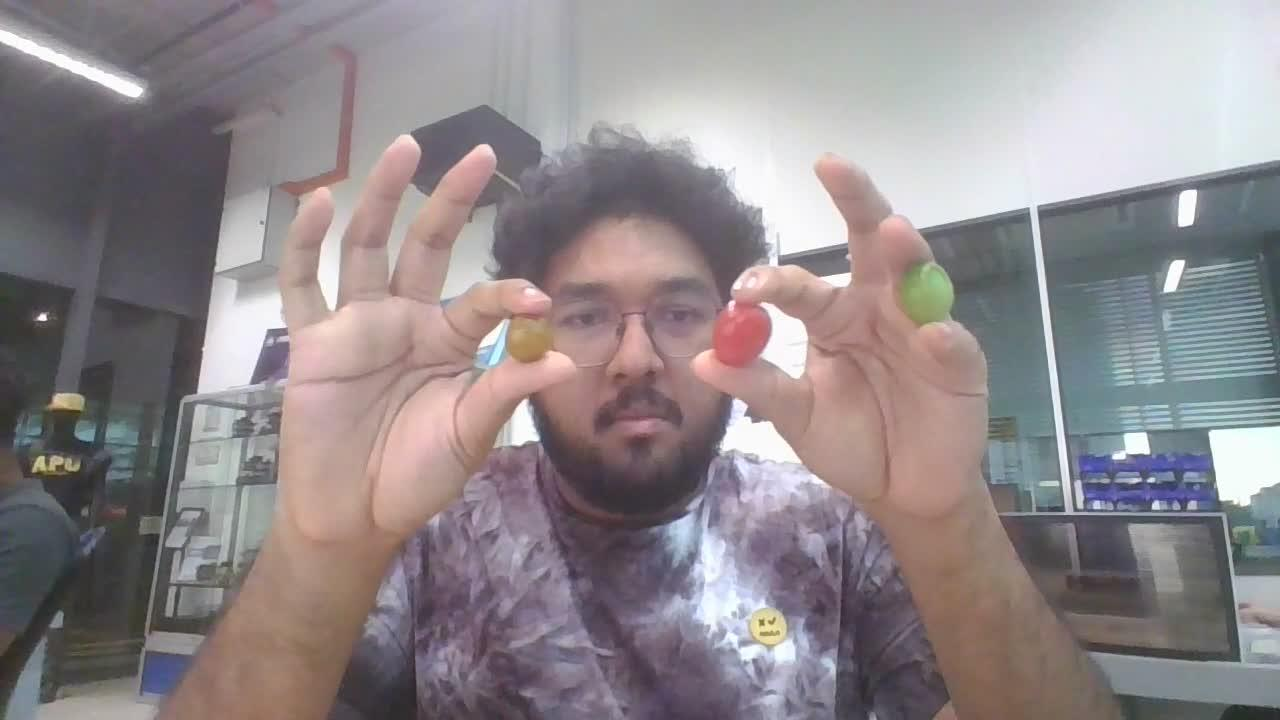green_cherry_tomato: (898, 262, 954, 325)
red_cherry_tomato: (713, 301, 771, 367)
yellow_cherry_tomato: (506, 316, 552, 362)
